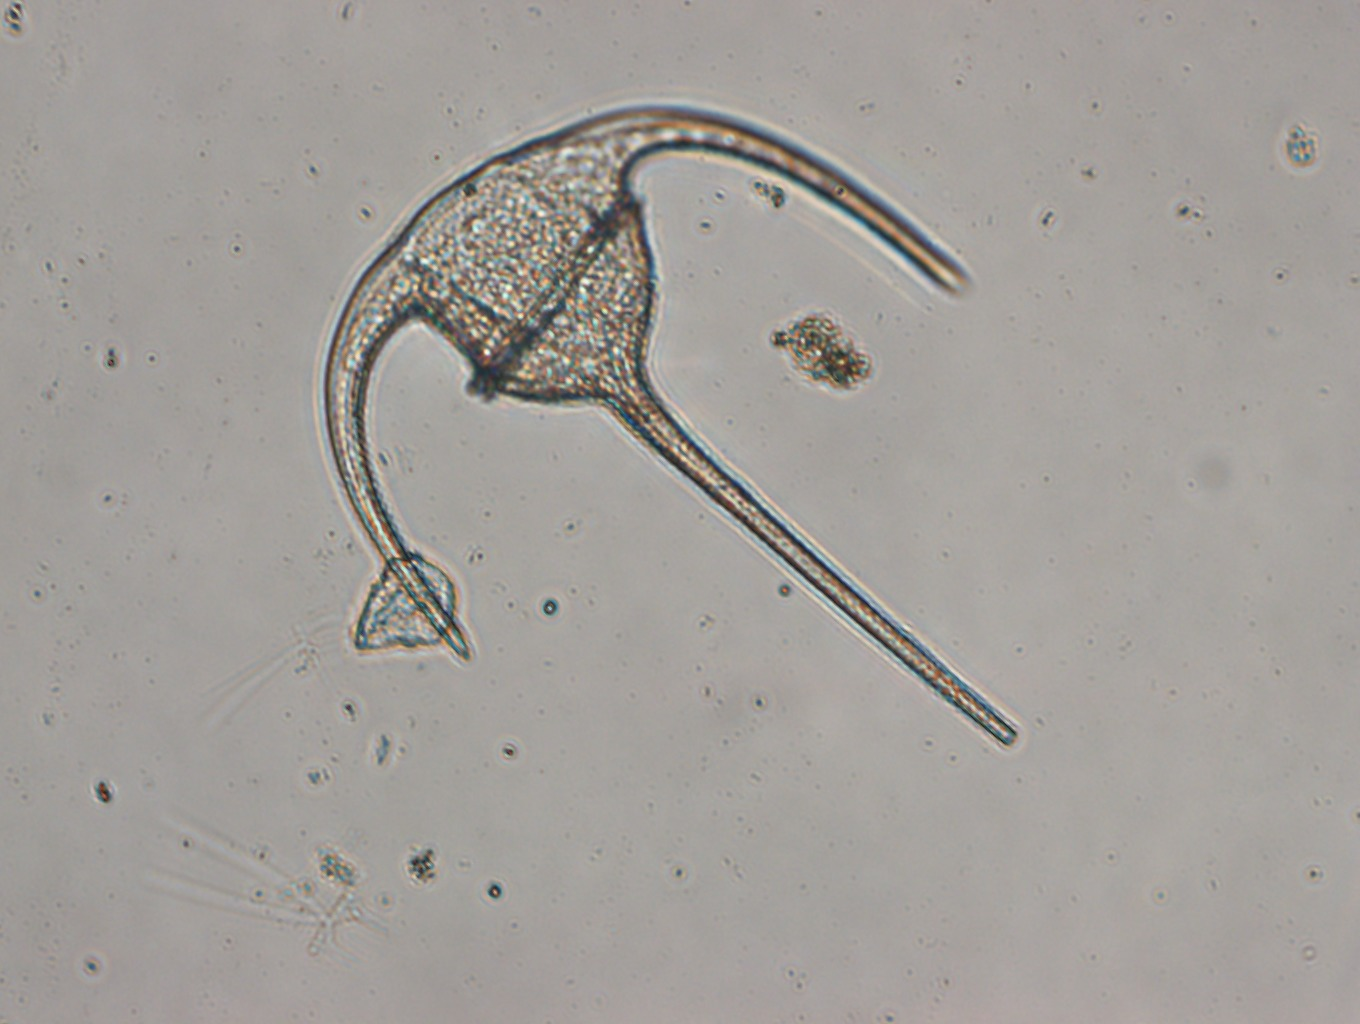ceratium tripos: (317, 98, 1017, 750)
